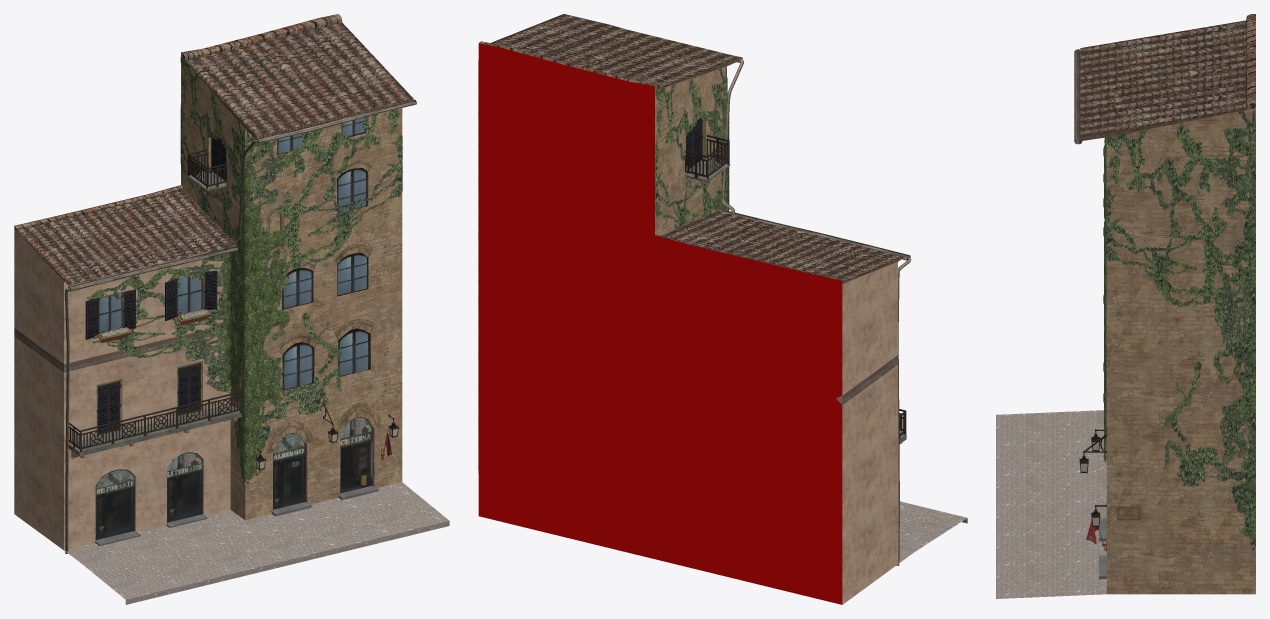
File: it-sf-hotel.glb
3 views of the same model, side by side, from view 1: azimuth 30°, elevation 25°; view 2: azimuth 150°, elevation 25°; view 3: azimuth 270°, elevation 25° (orthographic). The views are drawn at different scales.
Visible parts, largest first — view 1: Hotel_BrickWallLargeHouse_0; view 2: Hotel_BrickWallLargeHouse_0; view 3: Hotel_BrickWallLargeHouse_0.
Boxes of the visible parts, x1=… form: Hotel_BrickWallLargeHouse_0: x1=14, y1=14, x2=449, y2=604; Hotel_BrickWallLargeHouse_0: x1=478, y1=14, x2=967, y2=604; Hotel_BrickWallLargeHouse_0: x1=996, y1=14, x2=1255, y2=598.
Bounding box in the file's own units: 1221 × 1527 × 716.
16 materials, 15 textured.
